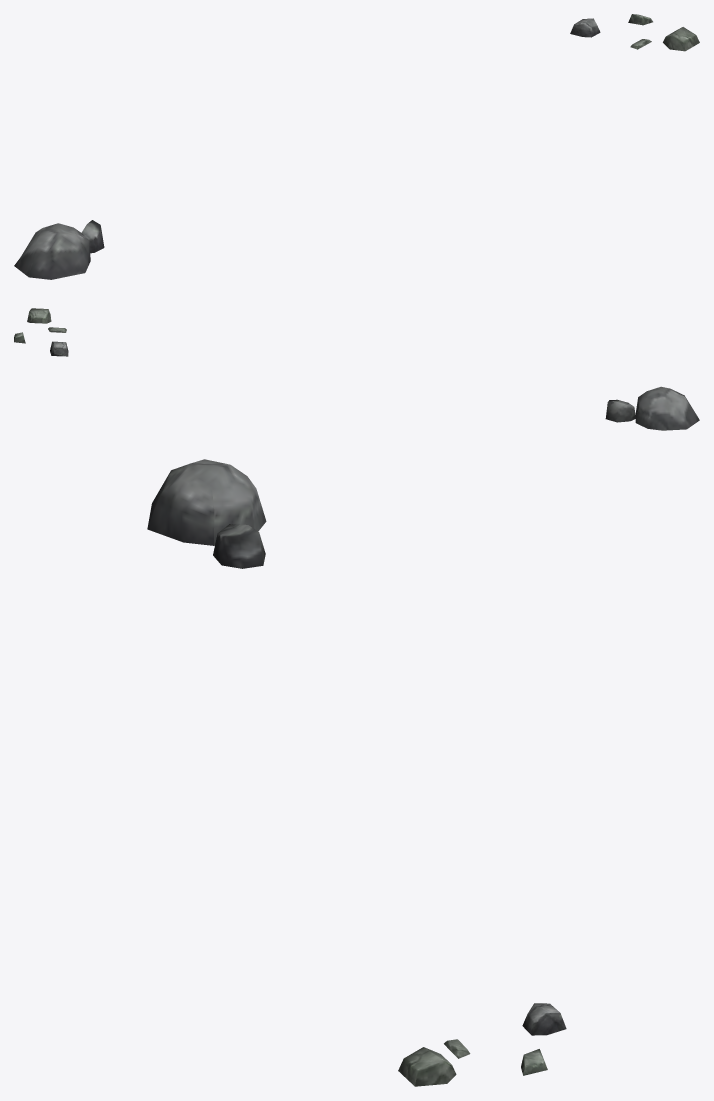
The model's file is Area_12_59.fbx.
3 views of the same model, one above another, from view 1: azimuth 30°, elevation 25°; view 2: azimuth 150°, elevation 25°; view 3: azimuth 270°, elevation 25° (orthographic). The views are drawn at different scales.
Parts seen in each view (by area): view 1: Area_12_59; view 2: Area_12_59; view 3: Area_12_59.
Part boxes in pixels (x1=…): Area_12_59: x1=14, y1=14, x2=699, y2=279; Area_12_59: x1=14, y1=308, x2=699, y2=430; Area_12_59: x1=147, y1=459, x2=566, y2=1086.
Size of the model in its own units: 2090 by 102 by 621.
